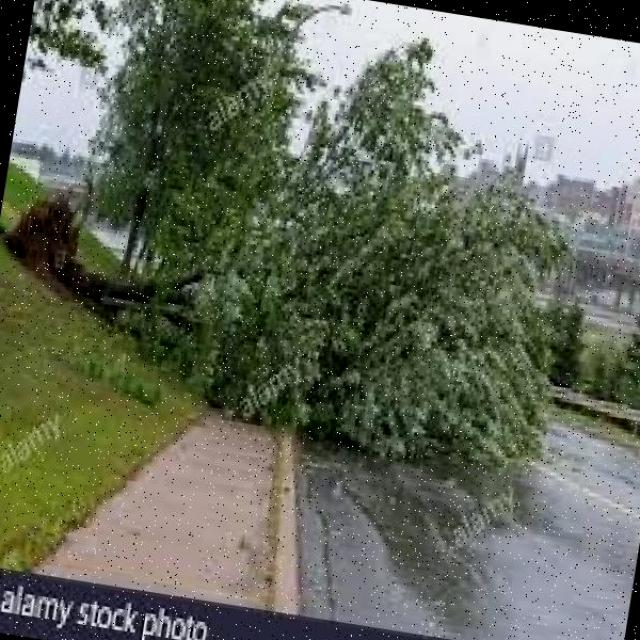fallen_object: (0, 173, 541, 434)
